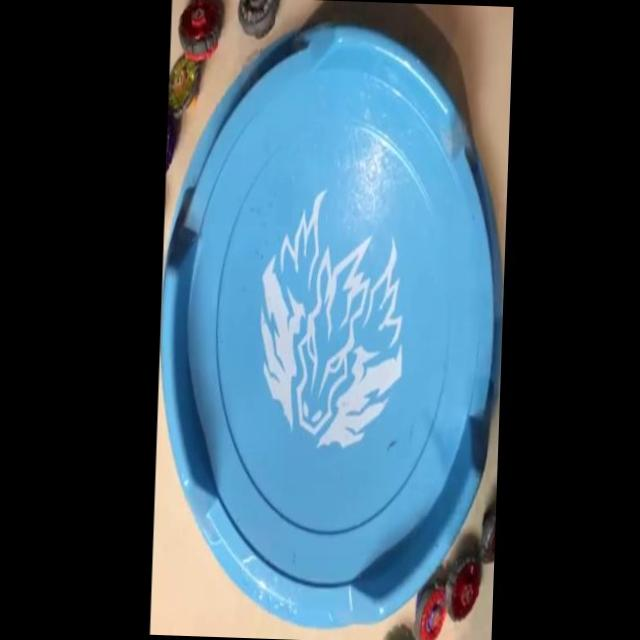Beyblade: (441, 549, 484, 623), (176, 0, 224, 59), (168, 50, 200, 118), (412, 580, 446, 640)
